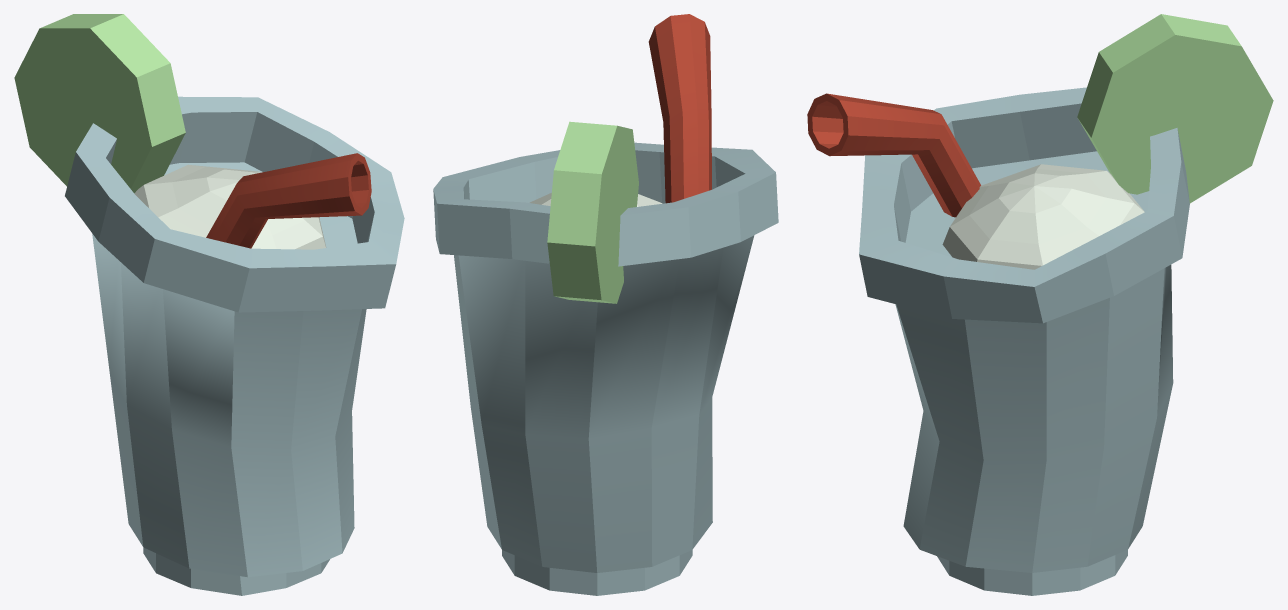
Rendered from tejuino.fbx.
3 views of the same model, side by side, from view 1: azimuth 30°, elevation 25°; view 2: azimuth 150°, elevation 25°; view 3: azimuth 270°, elevation 25° (orthographic).
Parts seen in each view (by area): view 1: Tejuino1; view 2: Tejuino1; view 3: Tejuino1.
Boxes of the visible parts, left/top/right/bottom form: Tejuino1: left=14, top=14, right=404, bottom=595; Tejuino1: left=433, top=14, right=778, bottom=595; Tejuino1: left=807, top=14, right=1273, bottom=595.
Bounding box in the file's own units: 31.63 × 50.91 × 43.01.
